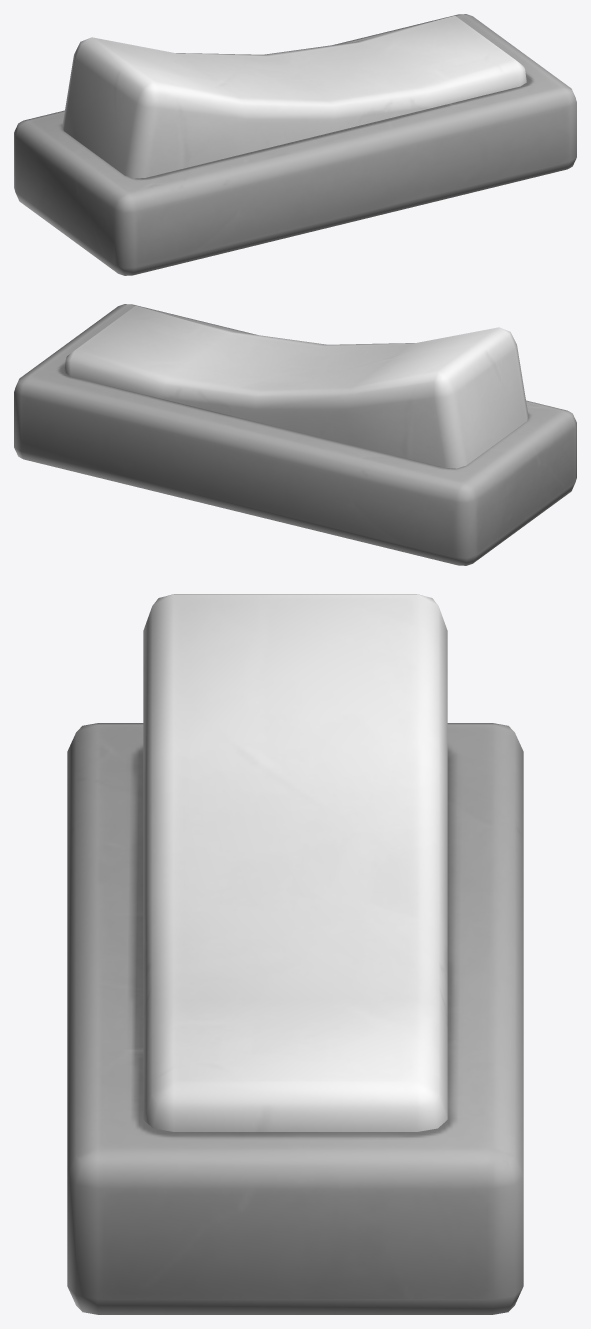
Rendered from Controller_03.fbx.
3 renders of one model, top to bottom at view 1: azimuth 30°, elevation 25°; view 2: azimuth 150°, elevation 25°; view 3: azimuth 270°, elevation 25°, orthographic. The views are drawn at different scales.
Parts seen in each view (by area): view 1: Controller_03; view 2: Controller_03; view 3: Controller_03.
Boxes of the visible parts, <box> form: Controller_03: <box>14,14,576,275</box>; Controller_03: <box>14,304,576,565</box>; Controller_03: <box>67,594,523,1314</box>.
Bounding box in the file's own units: 1.75 × 0.6132 × 0.75.
